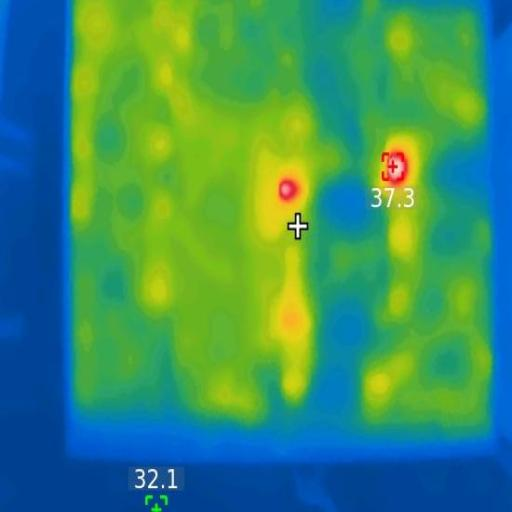hotspot: (380, 149, 410, 186), (277, 175, 300, 202)
